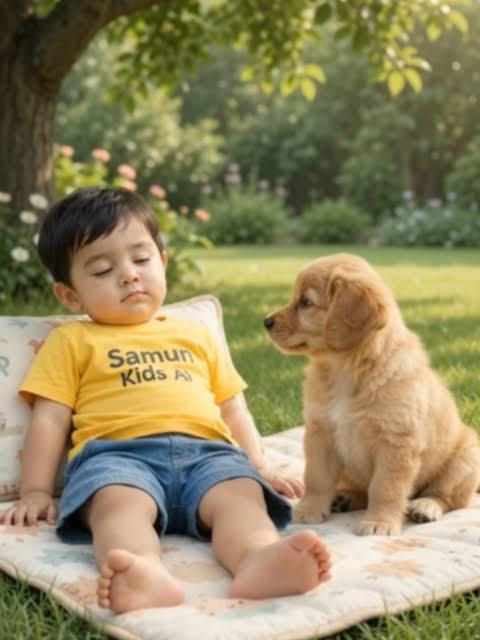non-dog: (0, 184, 333, 619)
puppy-dog: (264, 252, 480, 537)
